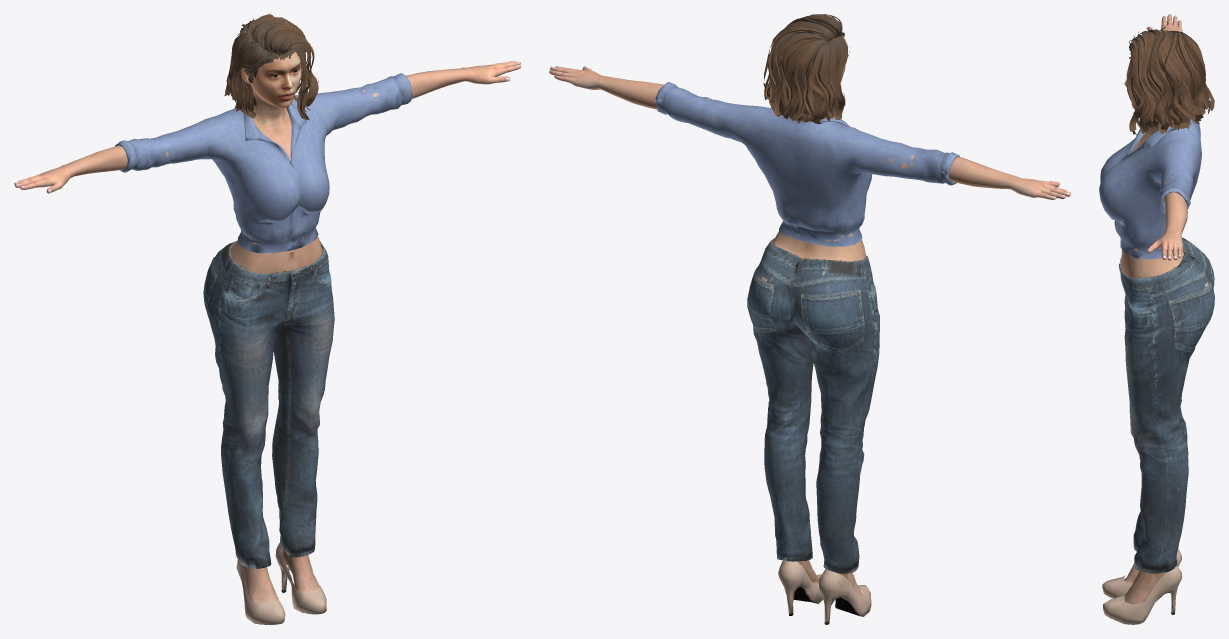
The model's file is shadia.glb.
The picture shows the model from 3 angles, left to right: view 1: azimuth 30°, elevation 25°; view 2: azimuth 150°, elevation 25°; view 3: azimuth 270°, elevation 25°; orthographic projection. The views are drawn at different scales.
Parts seen in each view (by area): view 1: body; view 2: body; view 3: body.
Boxes of the visible parts, box(x1,y1,x2,y2) form: body: box(14, 14, 520, 624); body: box(549, 14, 1070, 624); body: box(1099, 14, 1214, 624).
Size of the model in its own units: 1.64 by 1.8 by 0.3286.
Materials: 1 (1 with a texture image).
